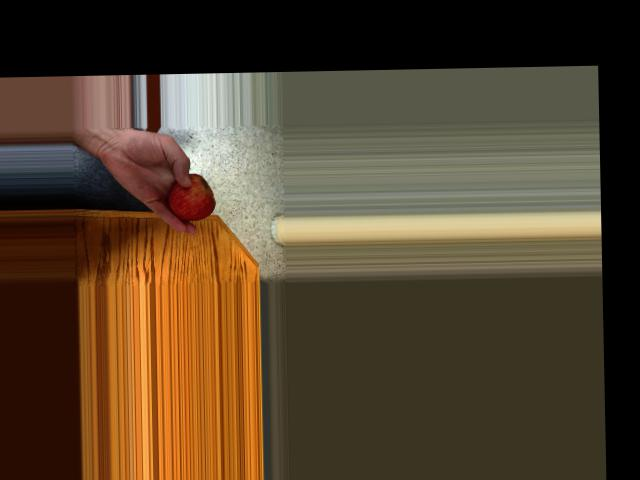apple: (157, 170, 218, 222)
